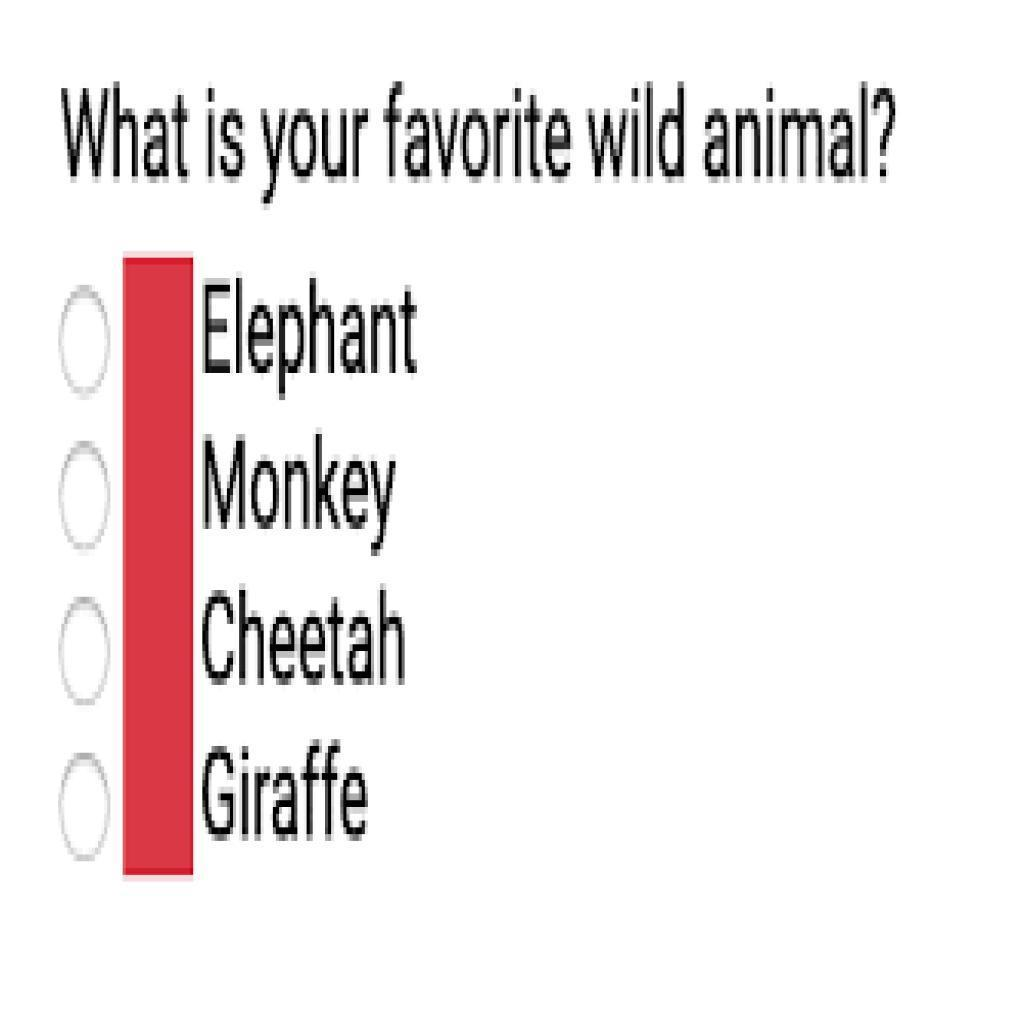radio: (53, 588, 117, 710), (55, 750, 118, 870), (50, 287, 115, 400), (59, 442, 116, 558)
